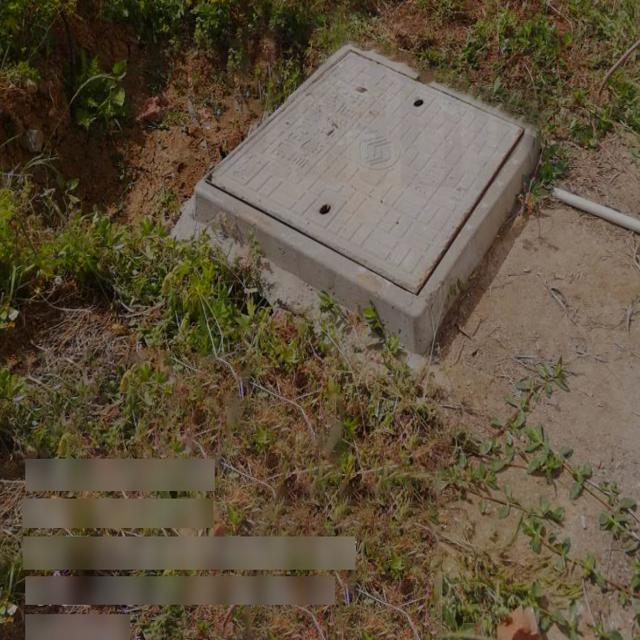good: (193, 40, 541, 337)
